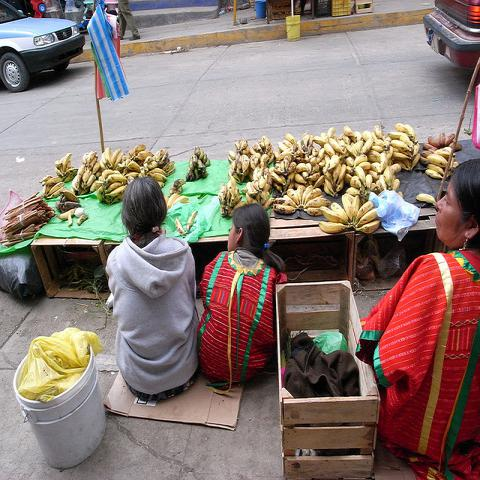car: (0, 0, 86, 92), (416, 1, 480, 82)
